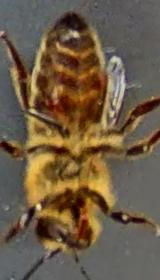varroa_mite: (27, 84, 80, 125)
